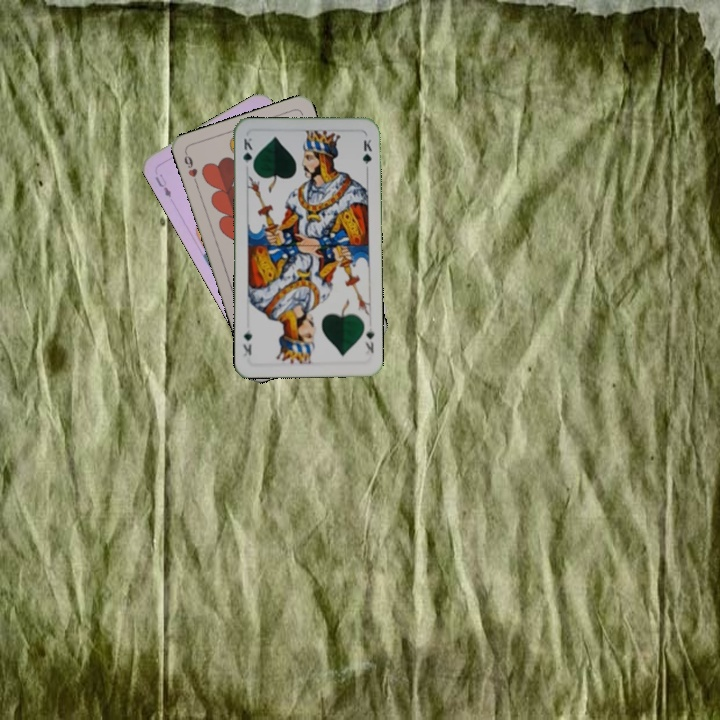EU: (151, 170, 174, 200)
GK: (239, 134, 256, 173), (362, 324, 377, 355)
H9: (180, 149, 200, 188)
